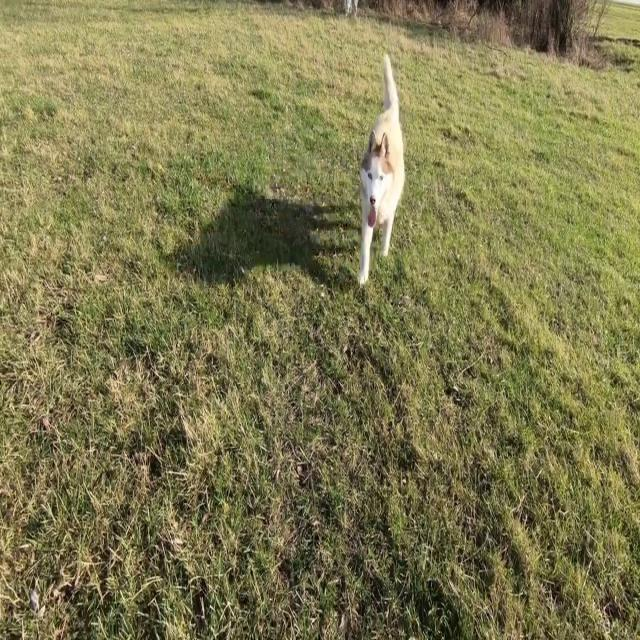Dog: (357, 53, 406, 285)
